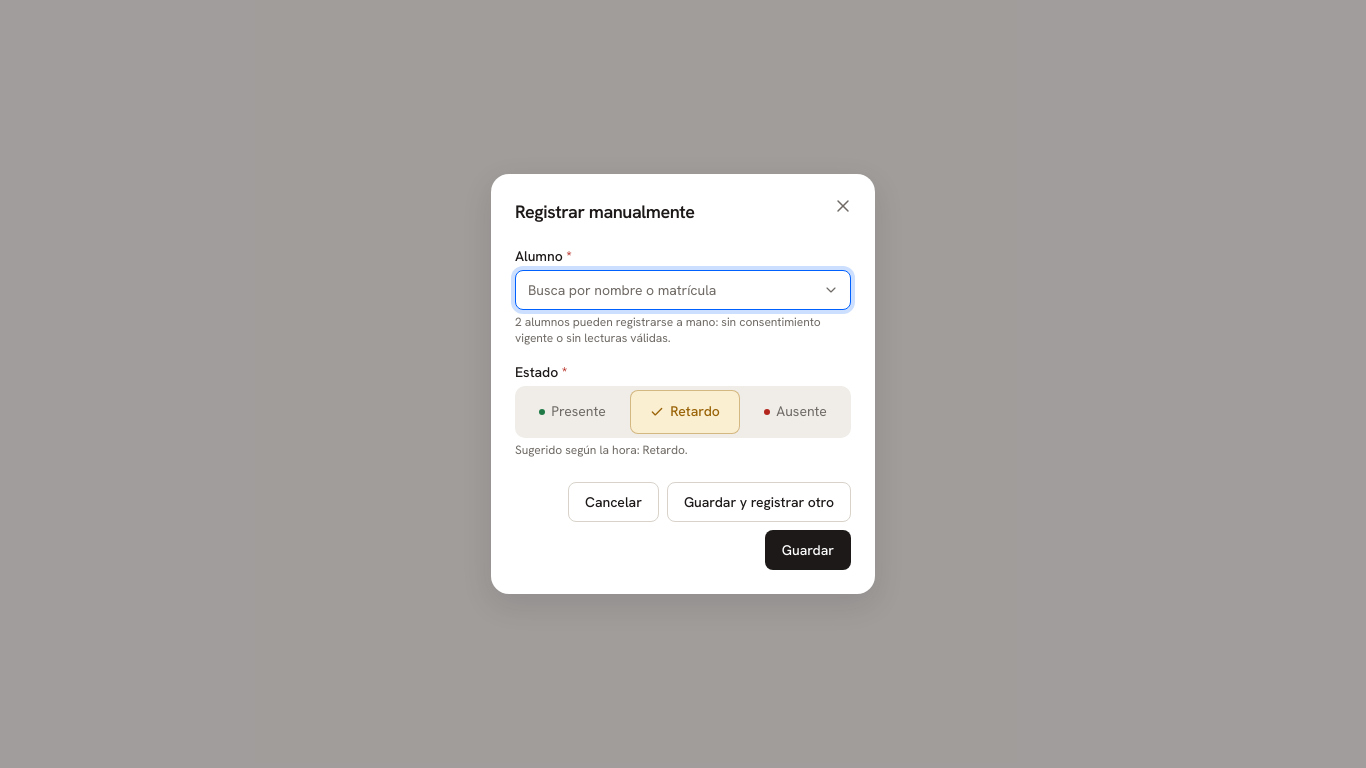
it: RegistroManualDialog › elige al alumno con búsqueda (dos líneas: nombre y matrícula con el motivo) y solo ofrece a quien lo necesita
Click the dropdown labelled "Alumno *" at (683, 290), box [515,270,851,310]
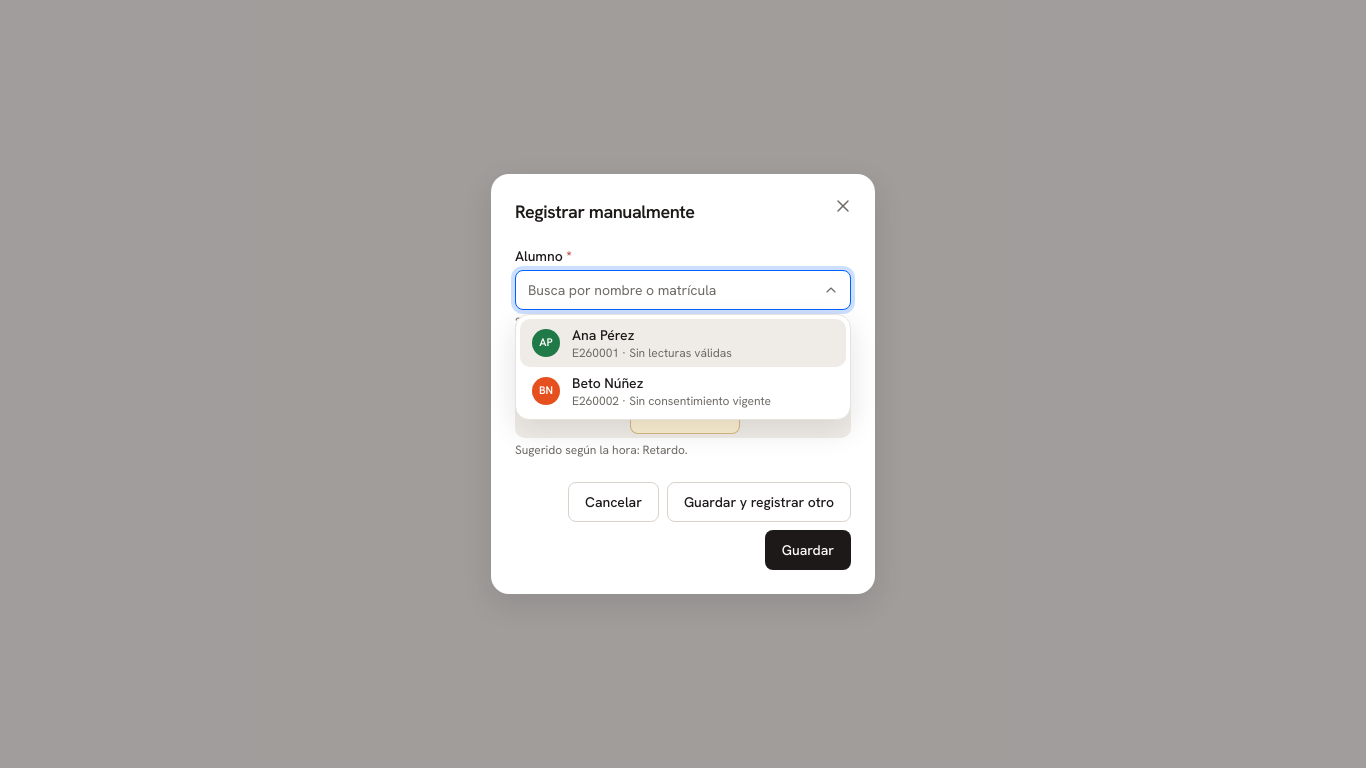
Result: the number of options is 2 at [520,319,846,367]; [532,374,771,409]
Result: the option "AP Ana Pérez E260001 · Sin lecturas válidas" is shown at [520,319,846,367]
Result: the option that starts with "Beto Núñez" shows "E260002 · Sin consentimiento vigente" at [532,374,771,409]
Type "nunez" into the dropdown labelled "Alumno *" at (683, 290), box [515,270,851,310]
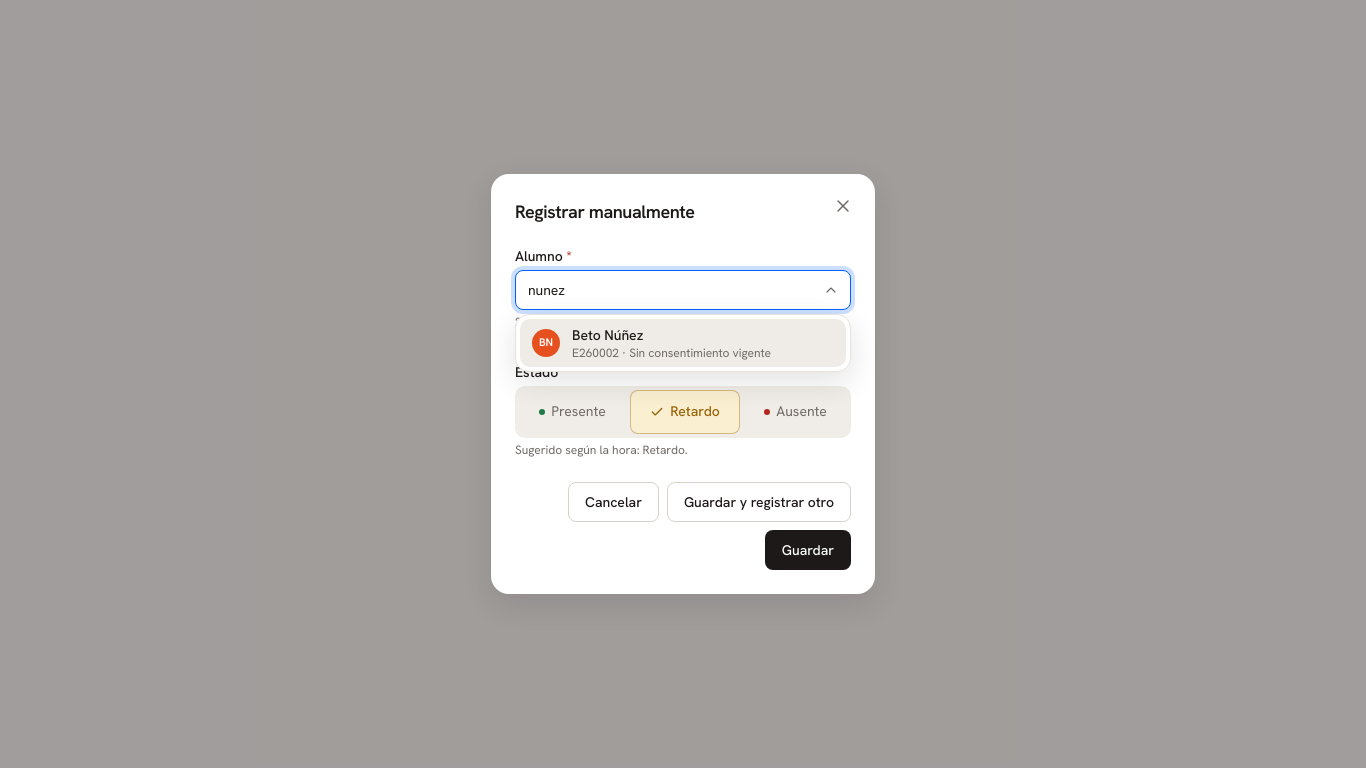
Result: the number of options is 1 at [520,319,846,367]
